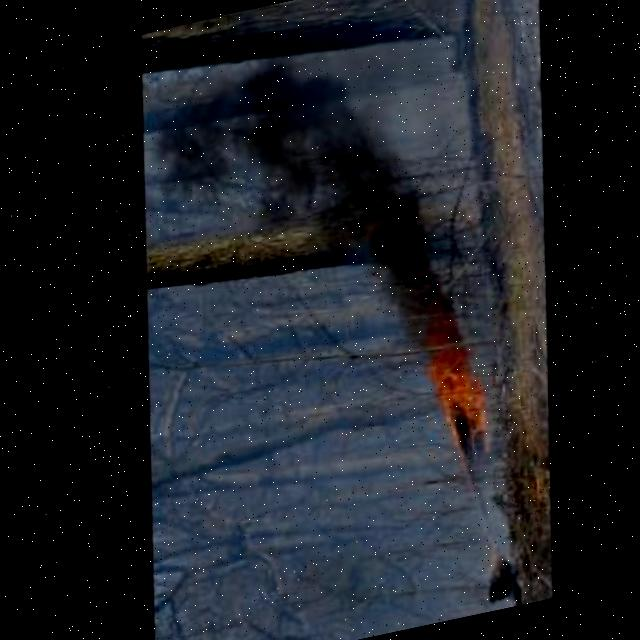fire: (403, 337, 501, 452)
